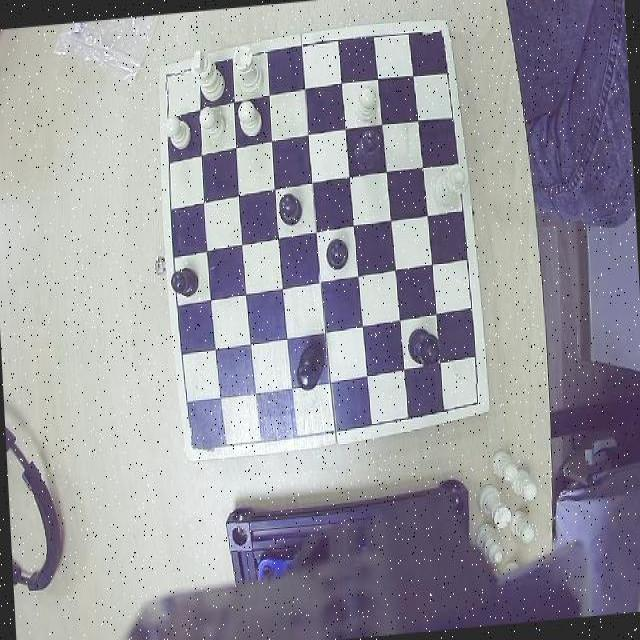chess-table-corners: (184, 426, 216, 458), (454, 383, 486, 413), (422, 22, 452, 53), (159, 62, 185, 92)
